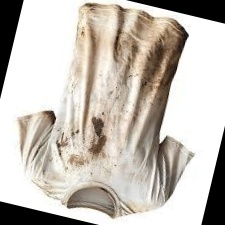earth: (136, 19, 185, 106), (83, 117, 111, 162), (113, 33, 142, 67), (57, 125, 78, 153), (68, 153, 87, 168)
